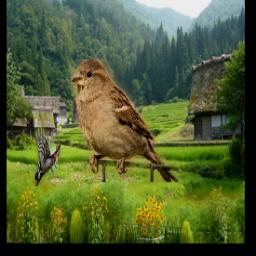Sparrow: (72, 59, 179, 182)
Woodpecker: (34, 128, 61, 187)
